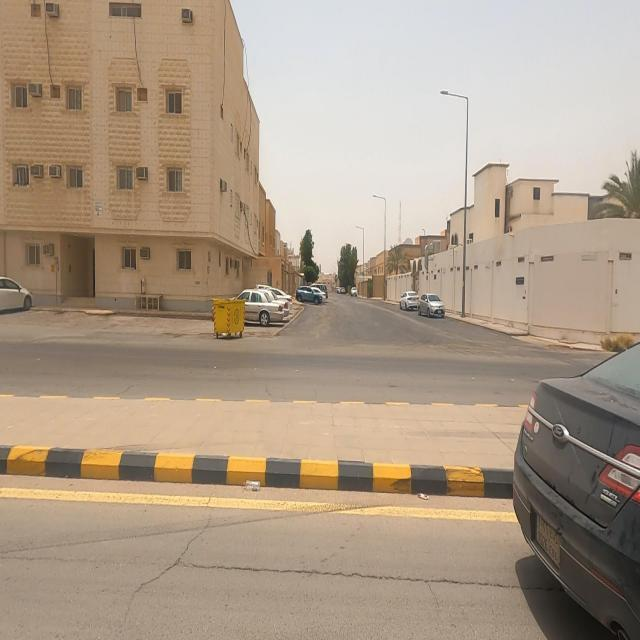debris: (213, 454, 285, 510)
